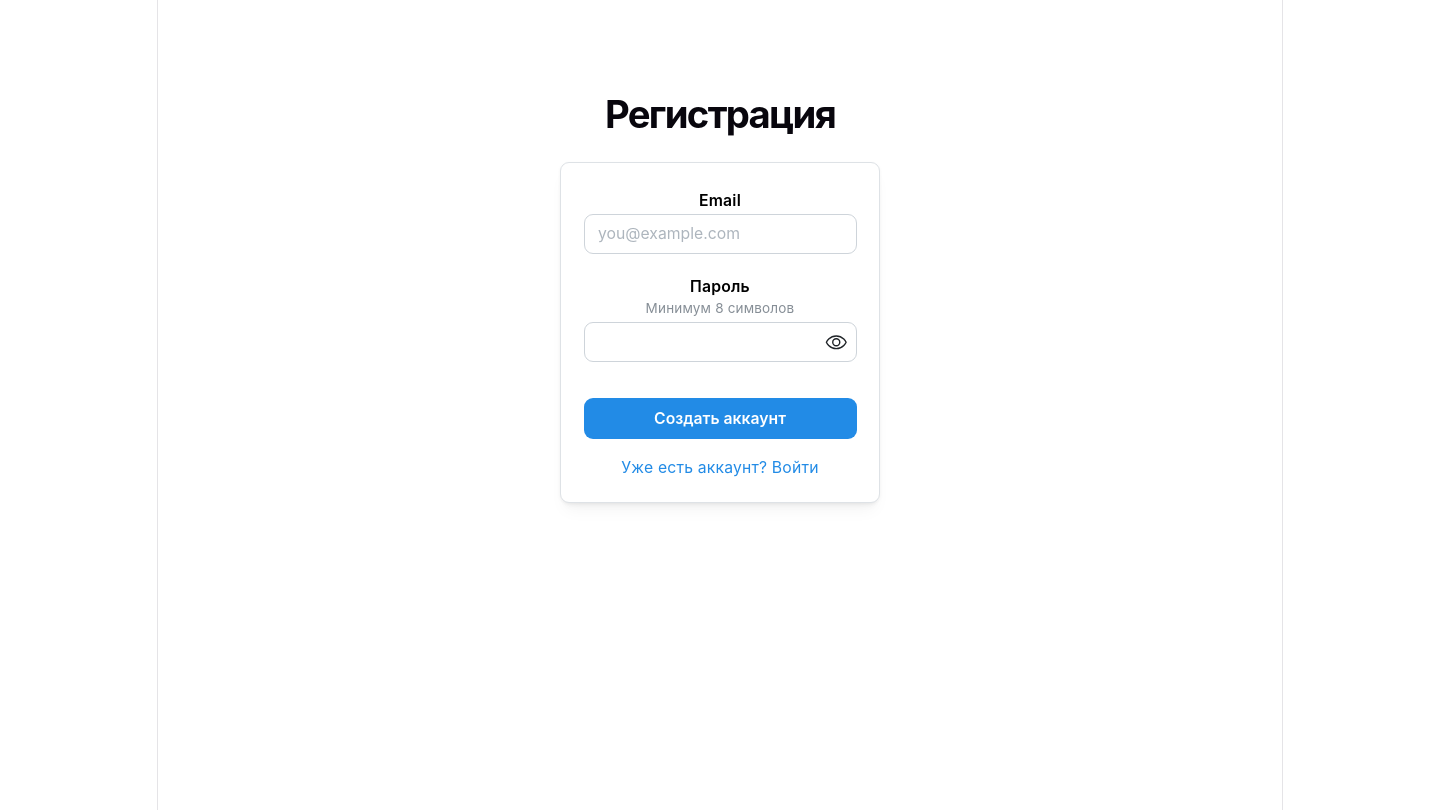
Test: на 422 показывается пояснение сервера
Type "a@b.c" into the field labelled "Email" at [720, 234], box [584,214,856,254]
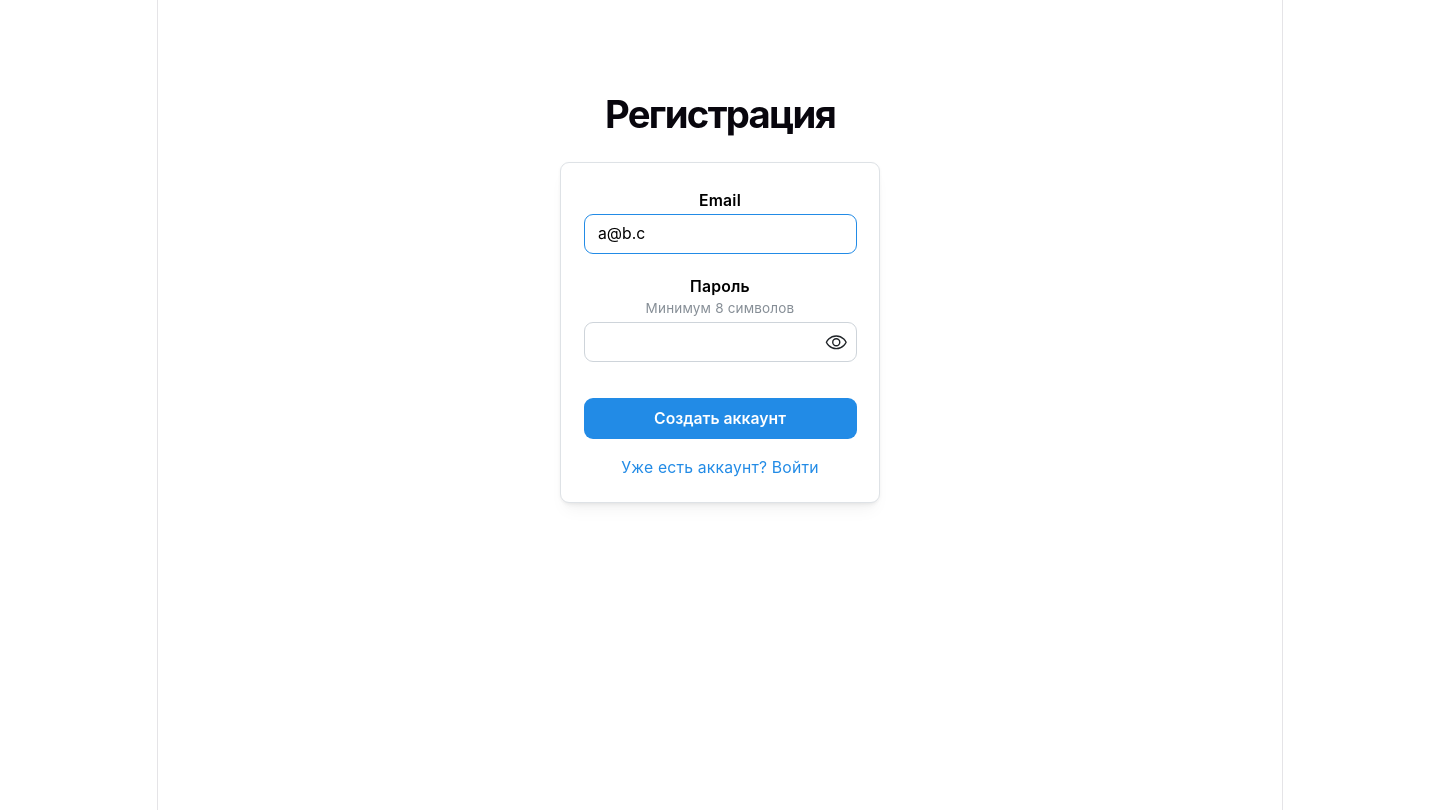
Type "password123" into the password field labelled "Пароль" at [720, 342], box [584,323,856,361]
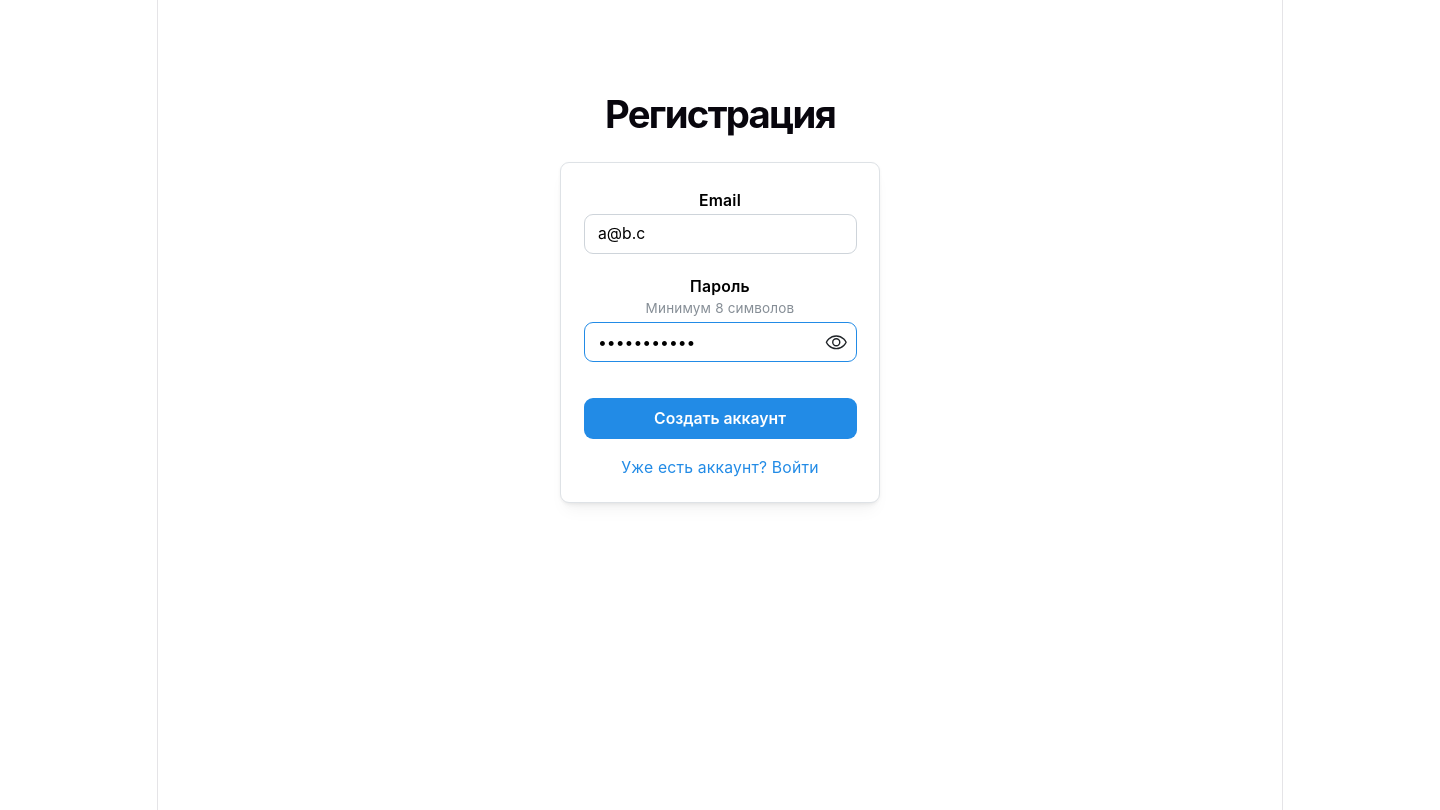
Click the button "Создать аккаунт" at [720, 419], box [584,398,856,439]
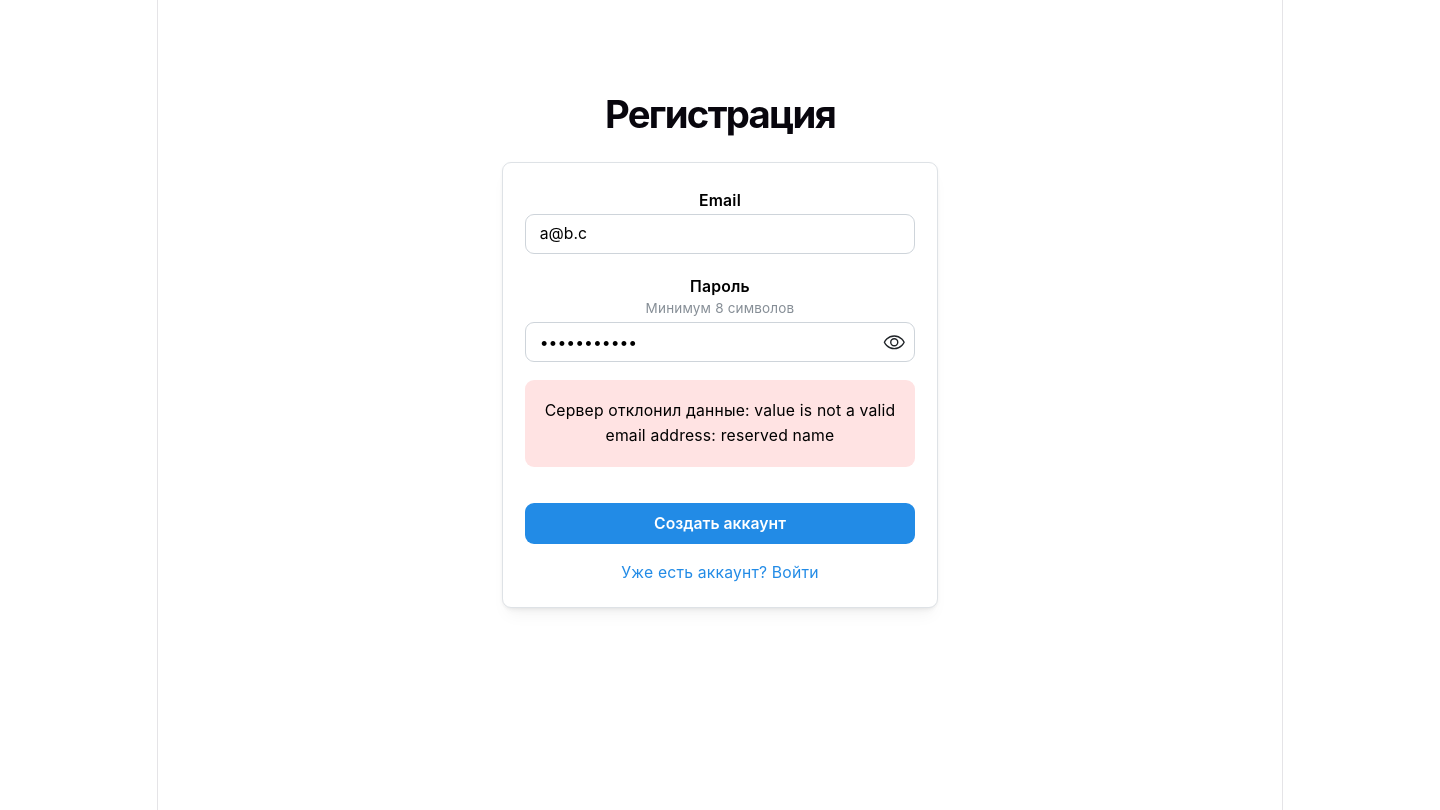
Now the text "Сервер отклонил данные: value is not a valid email address: reserved name" is shown, box [544,399,896,448]
